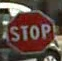stop: (5, 10, 55, 54)
